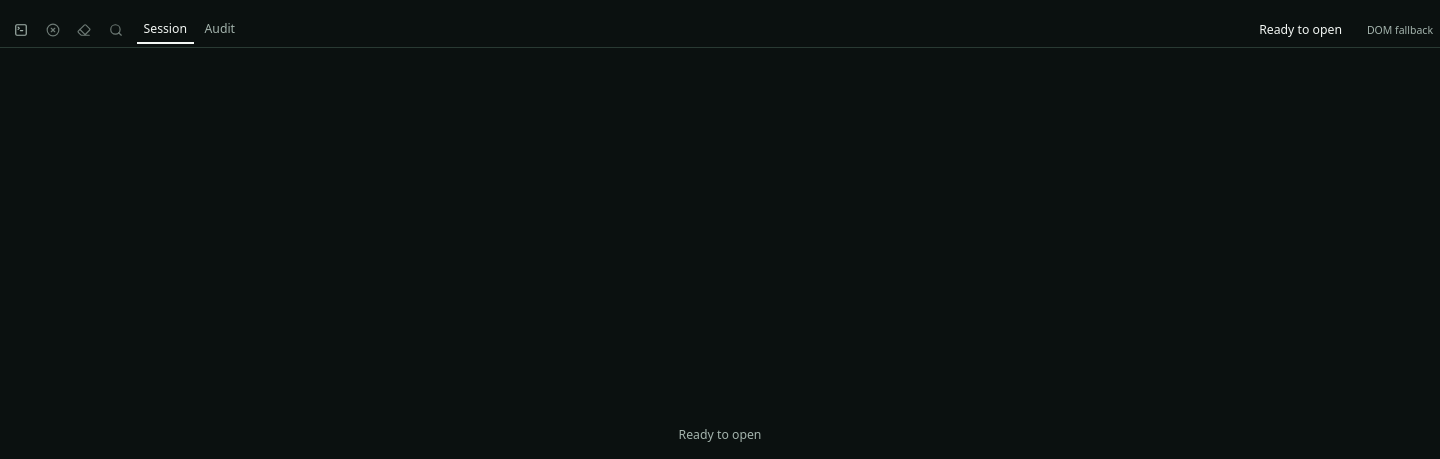
Scenario: JobTerminalPanel viewport and search › opens against the stable viewport once and disables duplicate Open while pending
Click the button named "Open terminal" at (21, 30), box top-left (7, 16), bottom-right (35, 44)
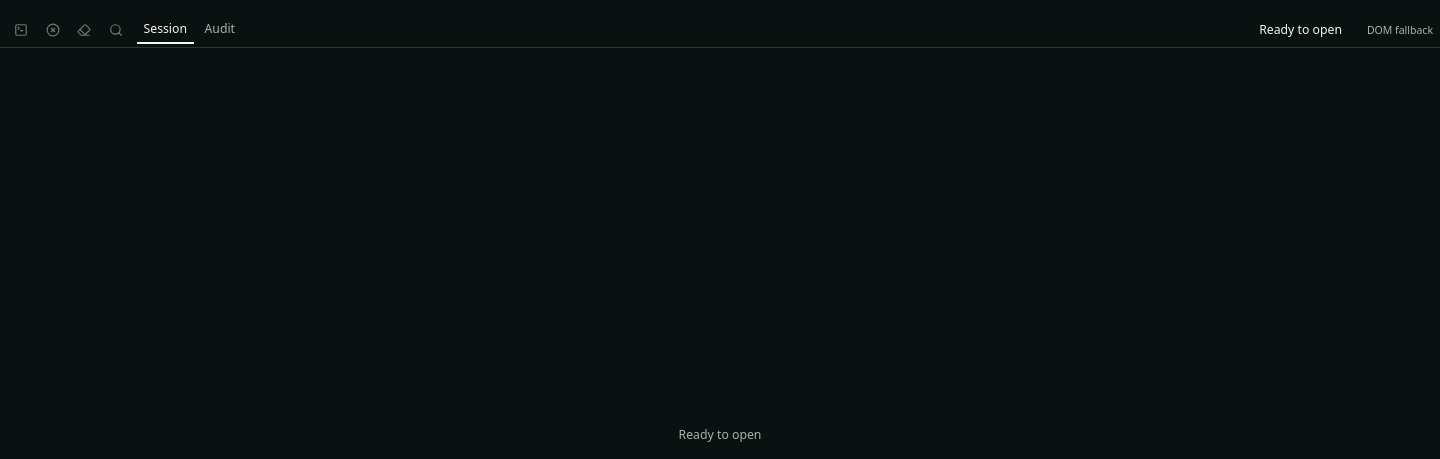
Result: the button named "Open terminal" is disabled
Click the button named "Open terminal" at (21, 30), box top-left (7, 16), bottom-right (35, 44)
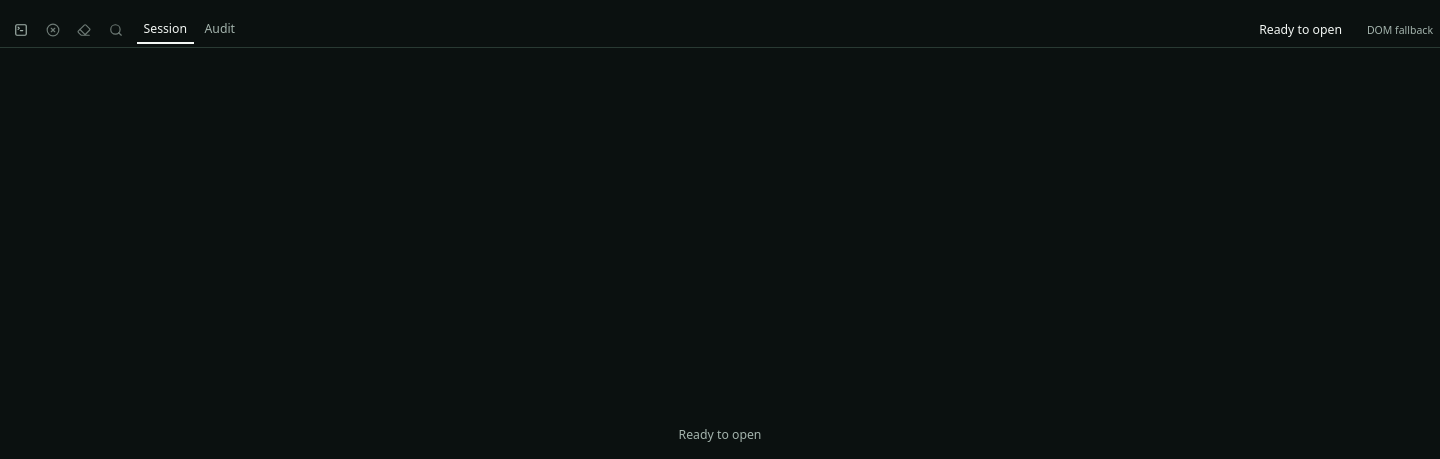
Result: the button named "Open terminal" is enabled at top-left (7, 16), bottom-right (35, 44)
